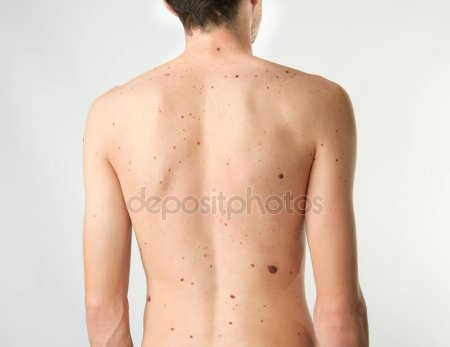mole: (265, 262, 282, 277), (141, 291, 155, 305), (275, 171, 287, 185), (225, 291, 238, 302), (186, 332, 199, 342), (213, 43, 223, 54), (225, 318, 236, 328), (194, 138, 204, 149), (167, 324, 179, 333), (167, 142, 179, 151), (332, 154, 341, 165), (177, 275, 187, 284), (150, 154, 159, 163), (284, 65, 291, 76), (233, 72, 240, 81)
